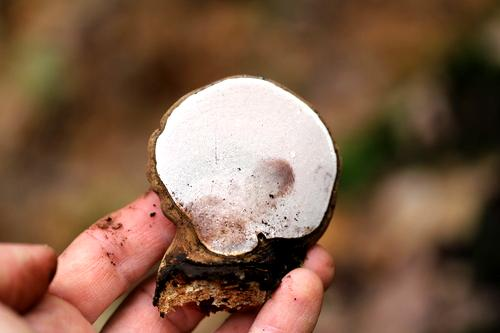Ganoderma - Fruit Body: (147, 71, 339, 308)
